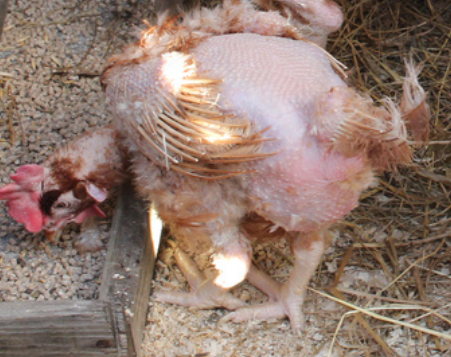Unhealthy: (6, 27, 372, 340)
